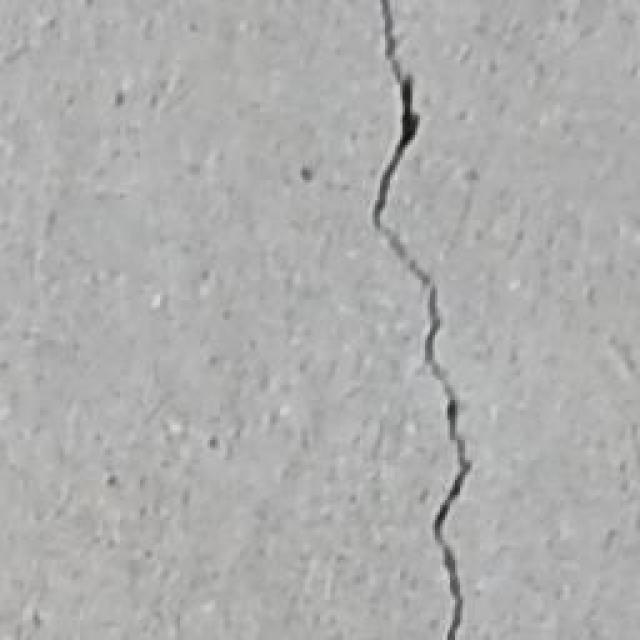concrete-crack: (362, 1, 473, 640)
